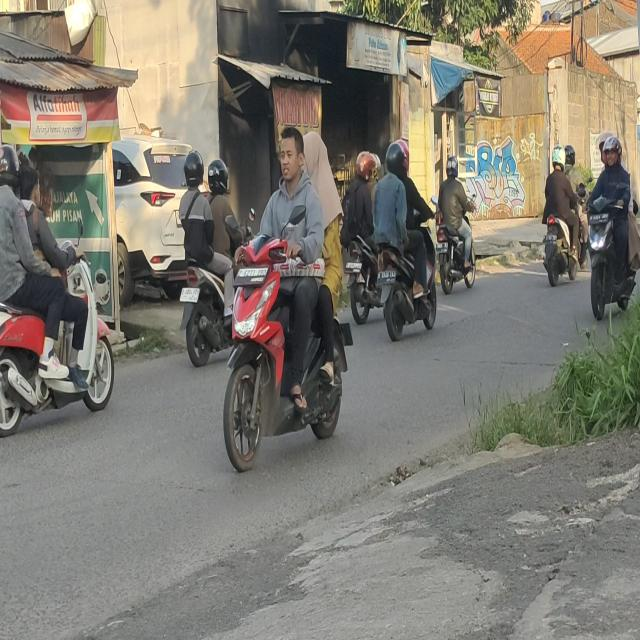helmet: (0, 145, 21, 191), (208, 157, 230, 196), (184, 149, 204, 188), (356, 148, 376, 180), (384, 142, 404, 174), (396, 138, 412, 172), (600, 132, 614, 164), (607, 137, 621, 165), (444, 156, 460, 178), (552, 145, 566, 170), (565, 144, 576, 166)
no-helmet: (304, 129, 326, 179), (281, 132, 302, 178)
